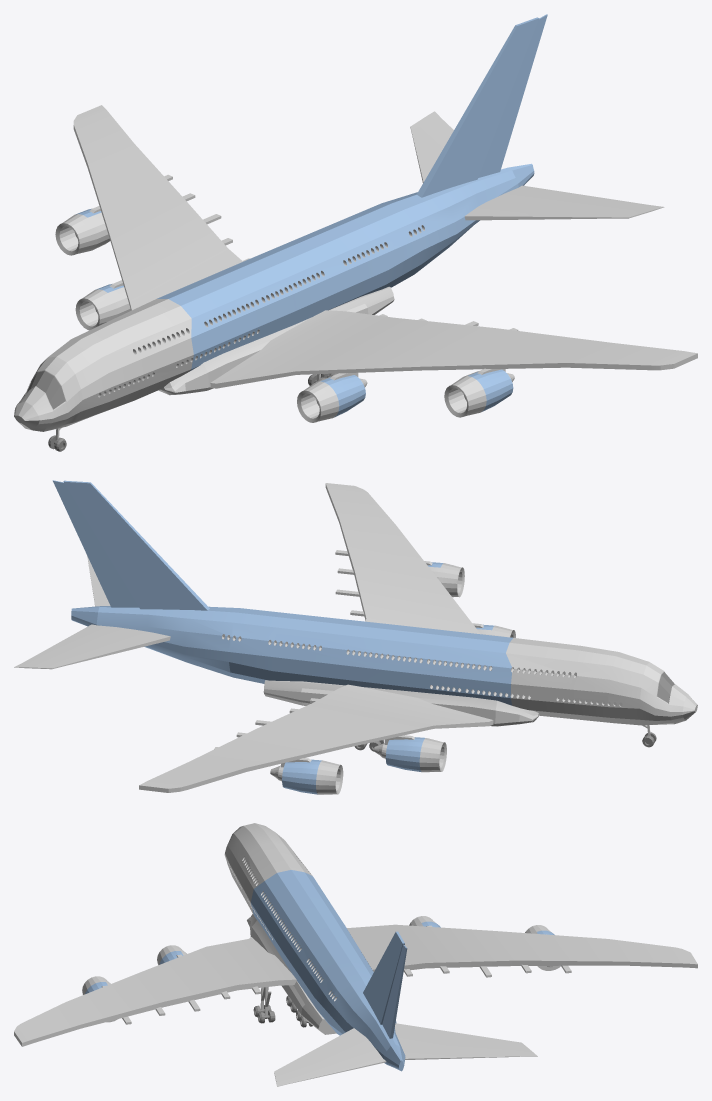
File: Airplane.fbx
3 views of the same model, one above another, from view 1: azimuth 30°, elevation 25°; view 2: azimuth 150°, elevation 25°; view 3: azimuth 270°, elevation 25° (orthographic). The views are drawn at different scales.
Parts seen in each view (by area): view 1: Объект_Куб_1; view 2: Объект_Куб_1; view 3: Объект_Куб_1.
Part boxes in pixels (left/top/right/bottom): Объект_Куб_1: left=14, top=14, right=697, bottom=451; Объект_Куб_1: left=14, top=480, right=697, bottom=794; Объект_Куб_1: left=14, top=823, right=697, bottom=1086.
Size of the model in its own units: 7857 by 2654 by 8297.
